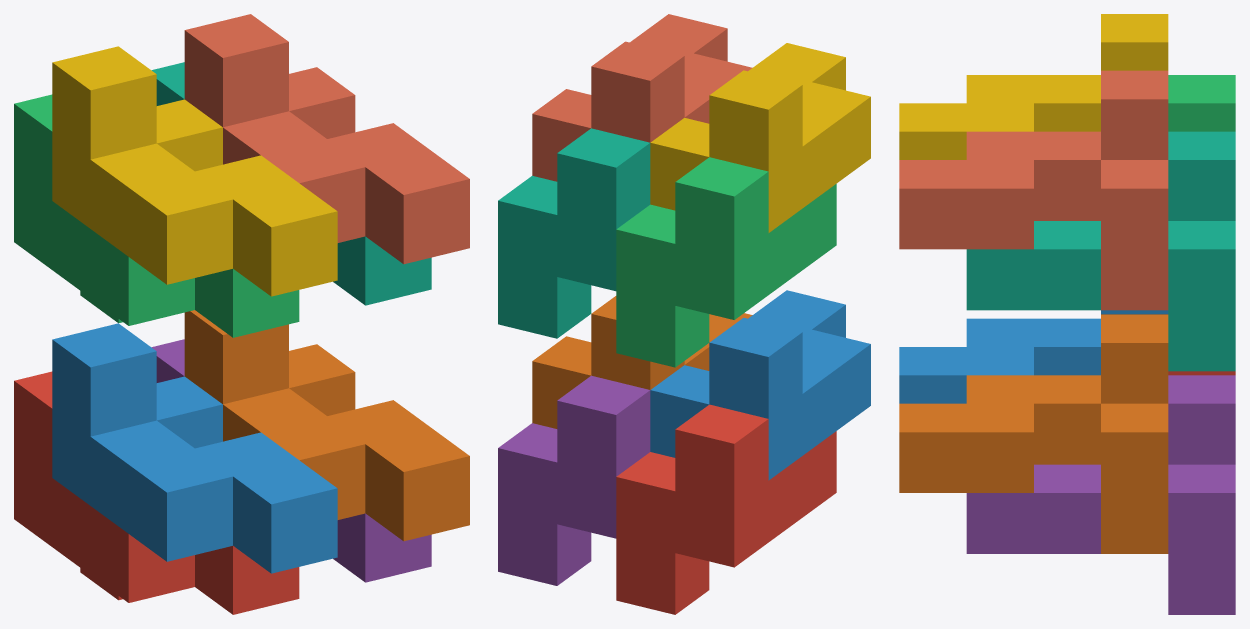
The model's file is tiling.obj.
3 views of the same model, side by side, from view 1: azimuth 30°, elevation 25°; view 2: azimuth 150°, elevation 25°; view 3: azimuth 270°, elevation 25° (orthographic). The views are drawn at different scales.
Visible parts, largest first — view 1: copy_1_domain_2, copy_1_domain_4, copy_1_domain_8, copy_1_domain_6, copy_1_domain_3, copy_1_domain_1, copy_1_domain_7, copy_1_domain_5; view 2: copy_1_domain_1, copy_1_domain_3, copy_1_domain_2, copy_1_domain_4, copy_1_domain_7, copy_1_domain_5, copy_1_domain_8, copy_1_domain_6; view 3: copy_1_domain_8, copy_1_domain_6, copy_1_domain_7, copy_1_domain_5, copy_1_domain_4, copy_1_domain_2, copy_1_domain_3.
Part boxes in pixels (x1,y1,x2,y2): copy_1_domain_2: (52,323,337,573); copy_1_domain_4: (52,46,337,296); copy_1_domain_8: (184,14,469,264); copy_1_domain_6: (184,310,469,541); copy_1_domain_3: (14,94,299,337); copy_1_domain_1: (14,371,299,614); copy_1_domain_7: (151,62,431,305); copy_1_domain_5: (151,339,431,582); copy_1_domain_1: (616,404,836,614); copy_1_domain_3: (616,157,836,367); copy_1_domain_2: (650,290,870,480); copy_1_domain_4: (650,43,870,232); copy_1_domain_7: (498,128,650,338); copy_1_domain_5: (498,375,650,585); copy_1_domain_8: (532,14,752,181); copy_1_domain_6: (532,296,752,428); copy_1_domain_8: (899,70,1168,310); copy_1_domain_6: (899,314,1168,553); copy_1_domain_7: (966,131,1235,371); copy_1_domain_5: (966,375,1235,614); copy_1_domain_4: (899,14,1168,159); copy_1_domain_2: (899,310,1168,403); copy_1_domain_3: (1168,75,1235,131).
Bounding box in the file's own units: 4 × 8 × 5.
